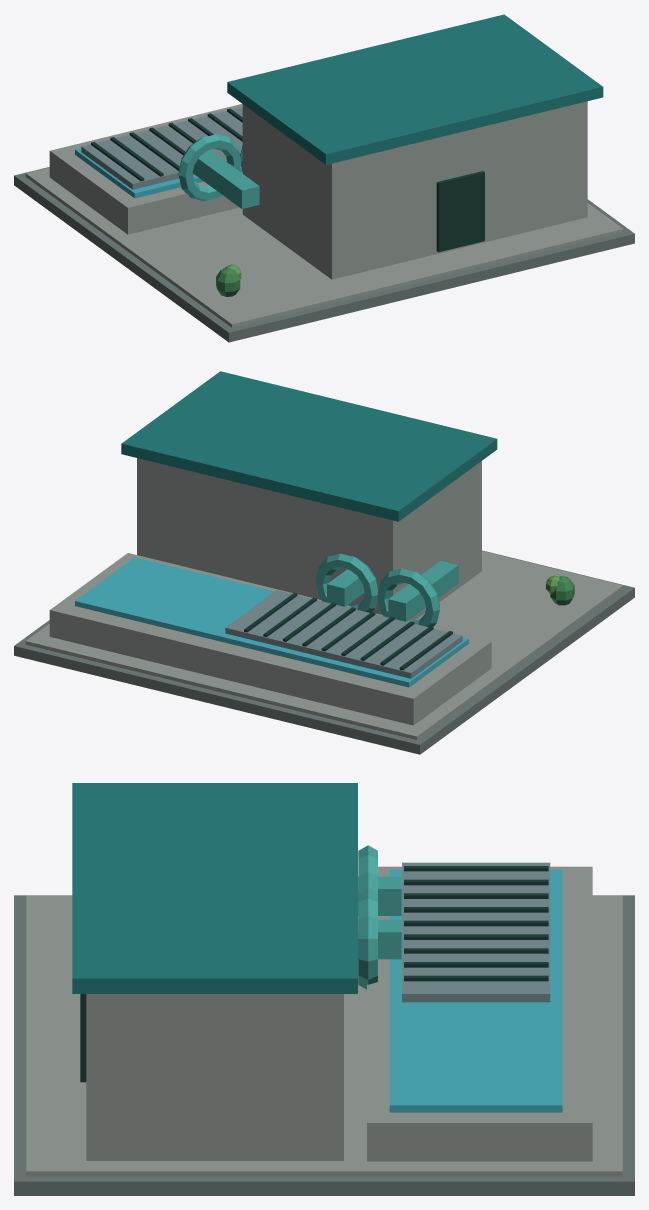
The model's file is drain_lv1.glb.
The picture shows the model from 3 angles, top to bottom: view 1: azimuth 30°, elevation 25°; view 2: azimuth 150°, elevation 25°; view 3: azimuth 270°, elevation 25°; orthographic projection. The views are drawn at different scales.
Parts seen in each view (by area): view 1: rough, metallic, glossy; view 2: rough, glossy, metallic; view 3: rough, glossy, metallic.
Boxes of the visible parts, x1,y1,x2,y2 form: rough: (14, 14, 634, 342); metallic: (81, 107, 242, 189); glossy: (75, 148, 242, 198); rough: (14, 371, 634, 754); glossy: (75, 557, 468, 687); metallic: (225, 590, 462, 678); rough: (14, 783, 634, 1195); glossy: (389, 869, 562, 1112); metallic: (402, 862, 550, 1002).
Bounding box in the file's own units: 9.6 × 3.27 × 8.8.
